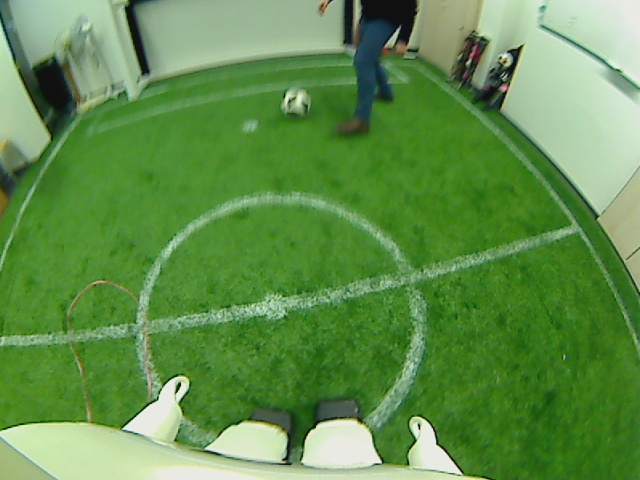ball: (280, 85, 312, 118)
